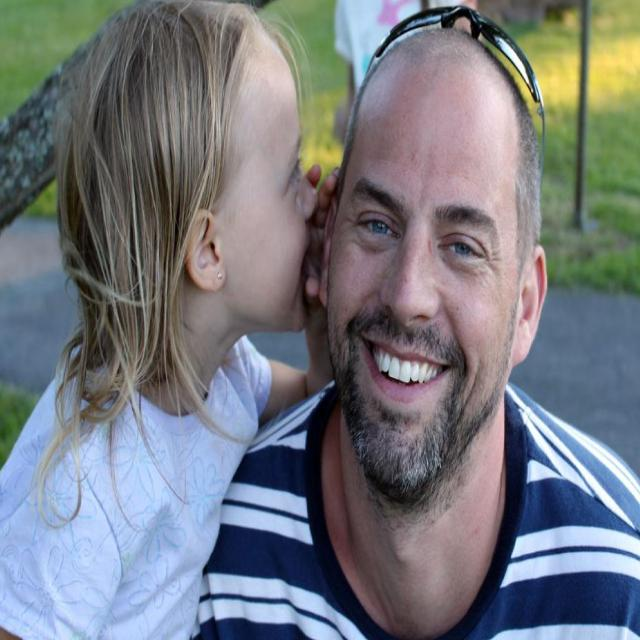Glasses: (370, 2, 546, 182)
